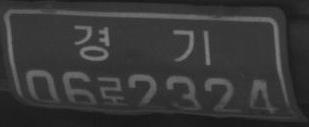0: (24, 67, 61, 104)
2: (204, 75, 243, 113), (129, 72, 163, 110)
3: (164, 73, 204, 112)
4: (247, 77, 281, 116)
6: (61, 69, 98, 109)
경기_D: (72, 23, 212, 67)
로: (98, 74, 130, 107)
